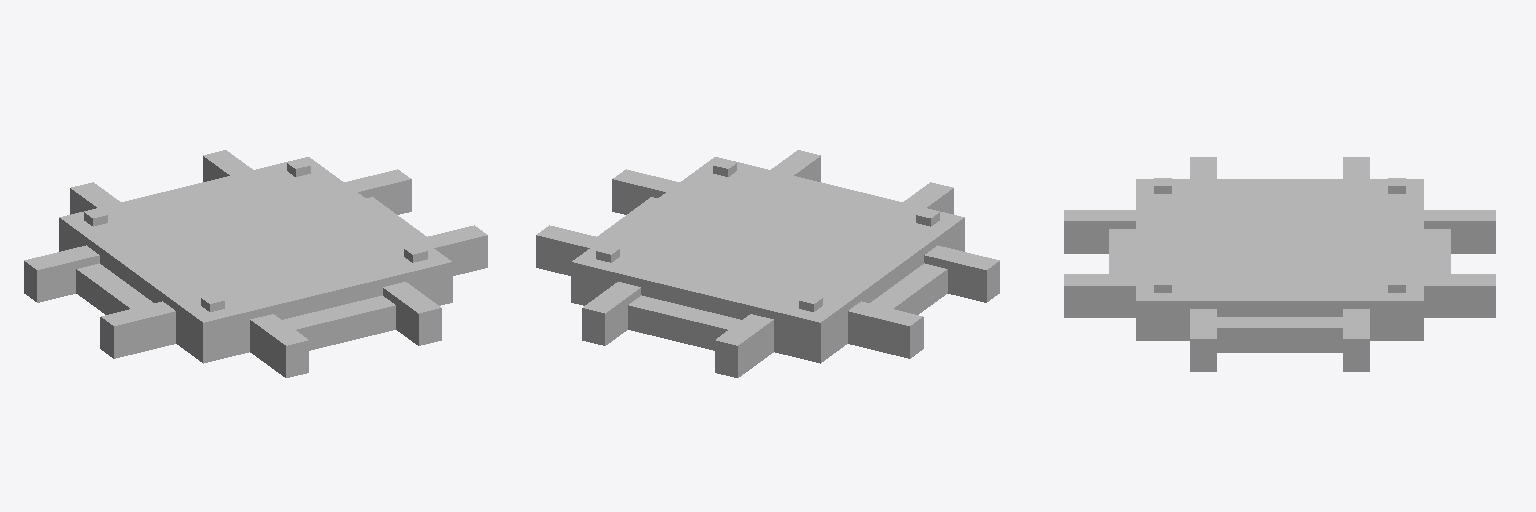
The picture shows the model from 3 angles: view 1: azimuth 30°, elevation 25°; view 2: azimuth 150°, elevation 25°; view 3: azimuth 270°, elevation 25°; orthographic projection.
Visible parts, largest first — view 1: aa_base; view 2: aa_base; view 3: aa_base.
Boxes of the visible parts, x1,y1,x2,y2 form: aa_base: [24, 150, 487, 377]; aa_base: [536, 150, 999, 377]; aa_base: [1064, 157, 1495, 371].
Size of the model in its own units: 3 by 0.375 by 3.